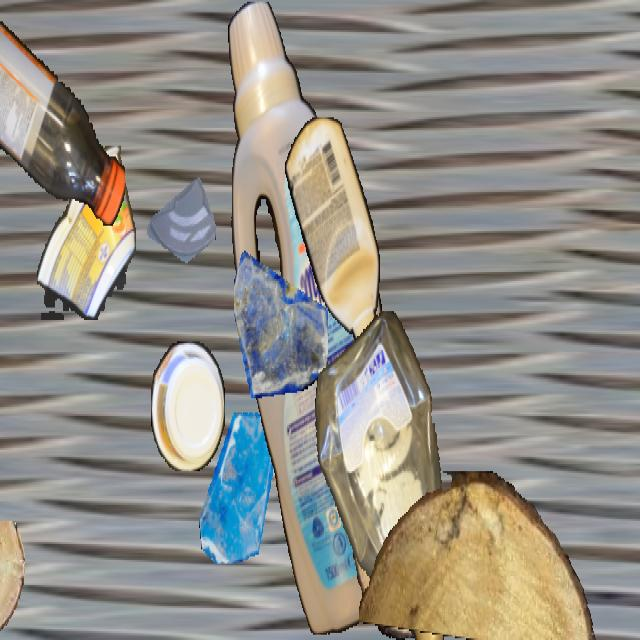glass: (234, 231, 328, 398), (197, 412, 281, 562), (147, 166, 215, 286)
metal: (349, 267, 411, 377)
plastic: (226, 2, 430, 634), (310, 311, 456, 638), (0, 2, 124, 229), (285, 117, 379, 345), (37, 146, 135, 320), (151, 342, 225, 469)
wood: (359, 471, 599, 638), (351, 450, 427, 638), (0, 521, 24, 638)
